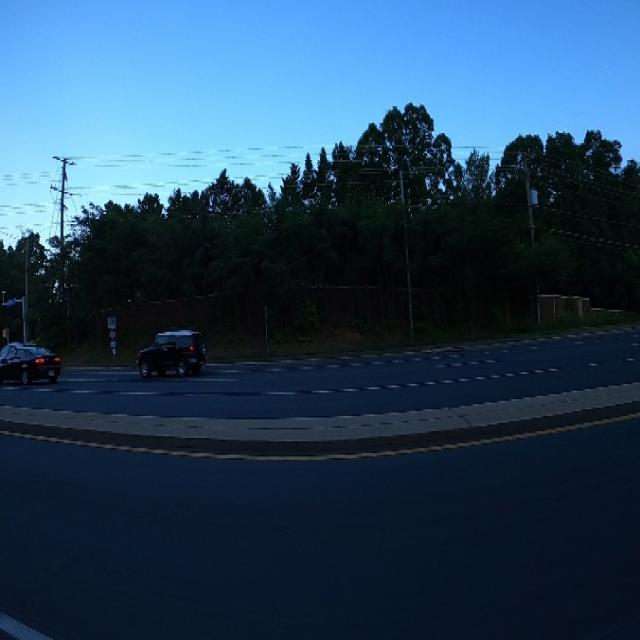cars: (134, 322, 207, 381), (0, 338, 61, 382)
